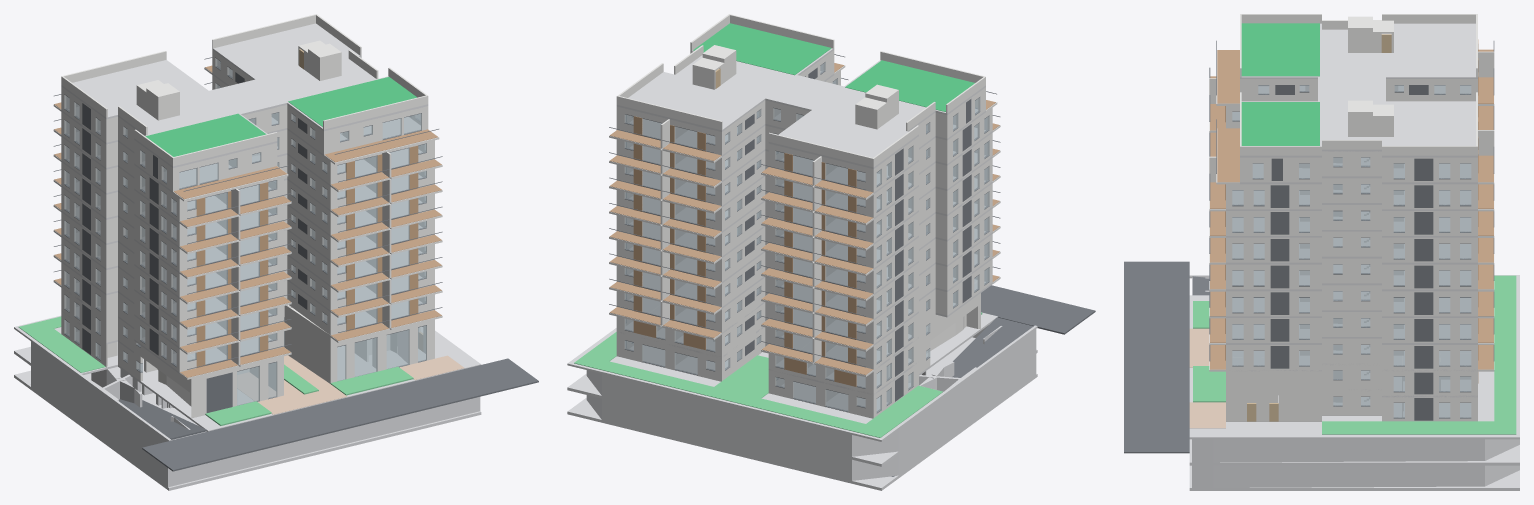
File: sharett26_28_model.glb
The picture shows the model from 3 angles, left to right: view 1: azimuth 30°, elevation 25°; view 2: azimuth 150°, elevation 25°; view 3: azimuth 270°, elevation 25°; orthographic projection. The views are drawn at different scales.
Visible parts, largest first — view 1: ext_white, slab_floor, alu_dark, glass_blue, wood_deck, synthetic_turf, hpl_wood, garden_grass, terracotta; view 2: ext_white, slab_floor, glass_blue, alu_dark, wood_deck, hpl_wood, garden_grass, synthetic_turf; view 3: ext_white, slab_floor, alu_dark, glass_blue, wood_deck, synthetic_turf, garden_grass, terracotta, oak_furn.
Part boxes in pixels (x1,y1,x2,y2): ext_white: (53,14,442,418); slab_floor: (14,23,481,490); alu_dark: (53,57,538,471); glass_blue: (64,58,426,405); wood_deck: (54,65,441,377); synthetic_turf: (145,77,416,156); hpl_wood: (196,145,418,367); garden_grass: (18,316,413,425); terracotta: (237,355,464,414); ext_white: (609,14,1000,418); slab_floor: (567,48,1037,490); glass_blue: (624,62,989,412); alu_dark: (609,54,1095,476); wood_deck: (609,63,999,375); hpl_wood: (633,116,856,386); garden_grass: (574,312,982,437); synthetic_turf: (693,23,974,111); ext_white: (1209,14,1494,421); slab_floor: (1189,23,1519,490); alu_dark: (1124,40,1494,453); glass_blue: (1232,85,1471,418); wood_deck: (1210,49,1493,369); synthetic_turf: (1241,23,1319,145); garden_grass: (1193,275,1516,434); terracotta: (1189,328,1225,428); oak_furn: (1247,34,1391,421).
Bounding box in the file's own units: 48 × 40.62 × 42.21.
